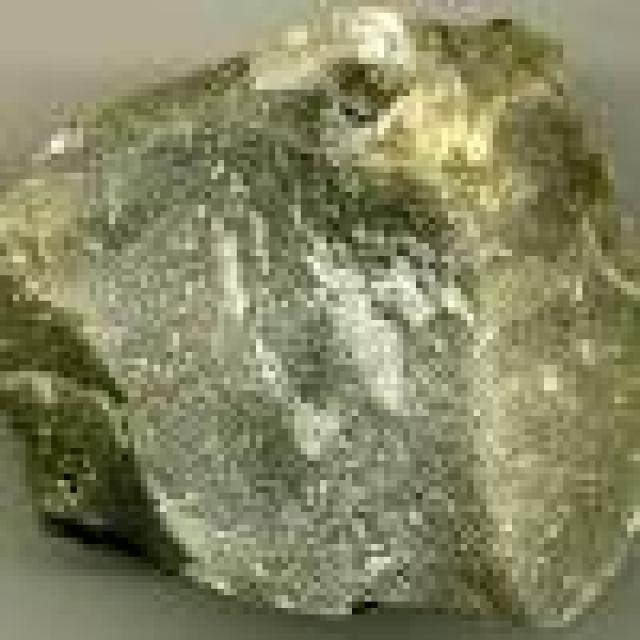Metamorphic: (19, 26, 627, 595)
